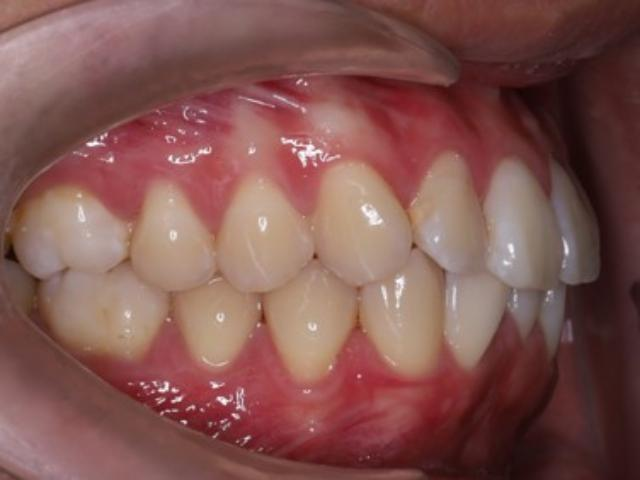canine class II 1/4: (269, 143, 449, 405)
molar class III 1/2: (12, 178, 176, 366)
